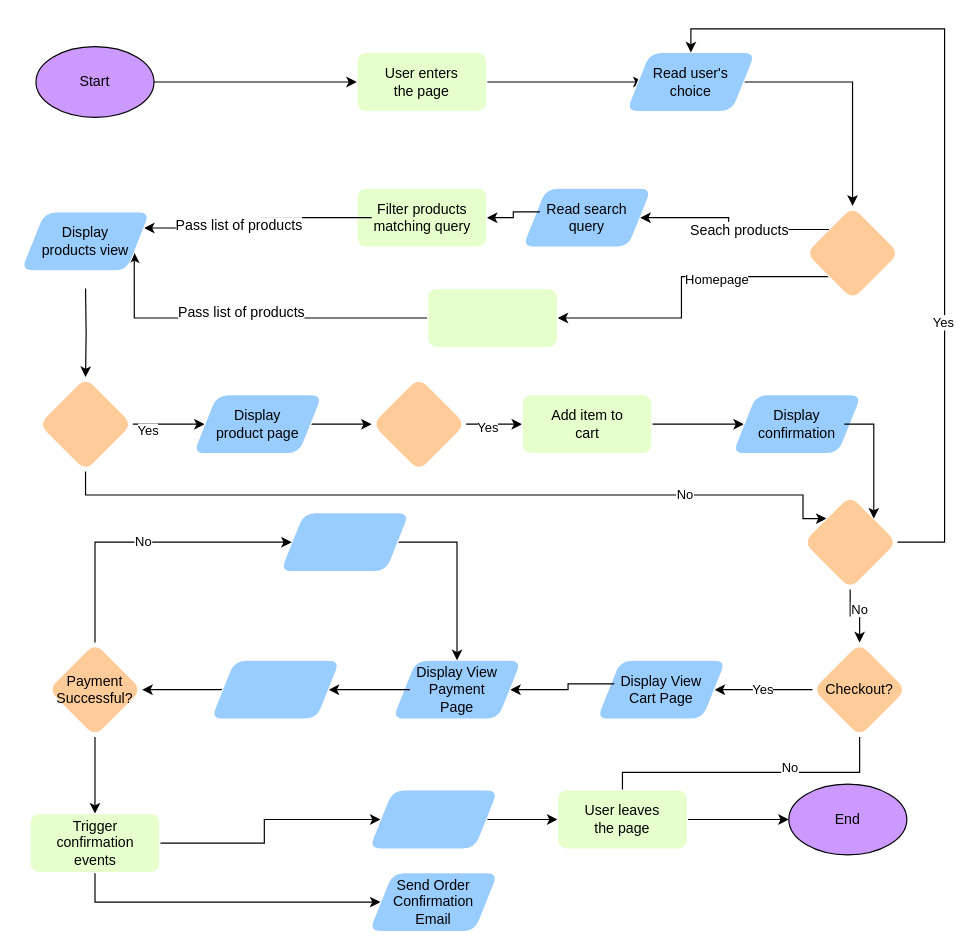
Some shapes in this 975 by 952 pixel diagram are drawn without their labels. Here are the shapes that lost their labels. From the top down, the centre of each, then its label:
the point at 852,252: User's purpose of visit
the point at 492,317: Gather products for homepage
the point at 85,423: View a specific product?
the point at 418,423: Add item to cart?
the point at 344,542: Display Unsuccessful payment
the point at 849,541: Continue shopping?
the point at 274,689: Read Payment Information
the point at 433,819: Display Order Confirmation
